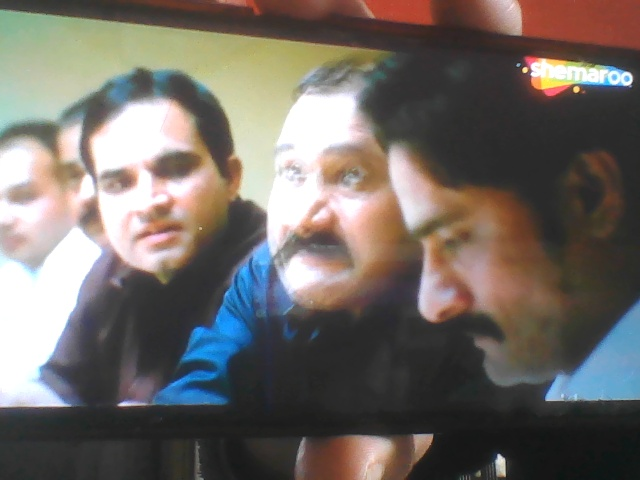fake: (383, 51, 620, 387), (251, 49, 443, 321), (80, 62, 237, 284)
